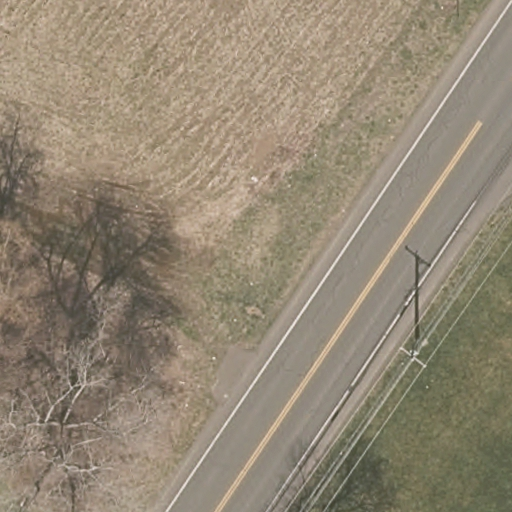DT: (397, 345, 428, 367)
